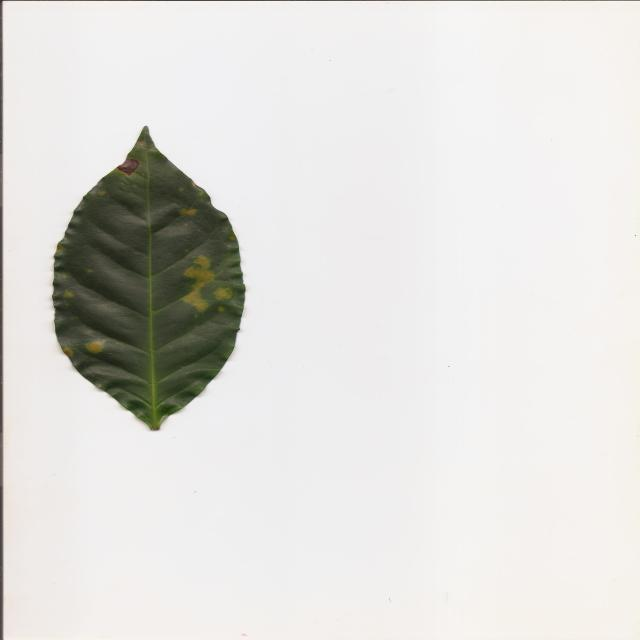Enfermedad-Roya: (50, 126, 247, 433)
